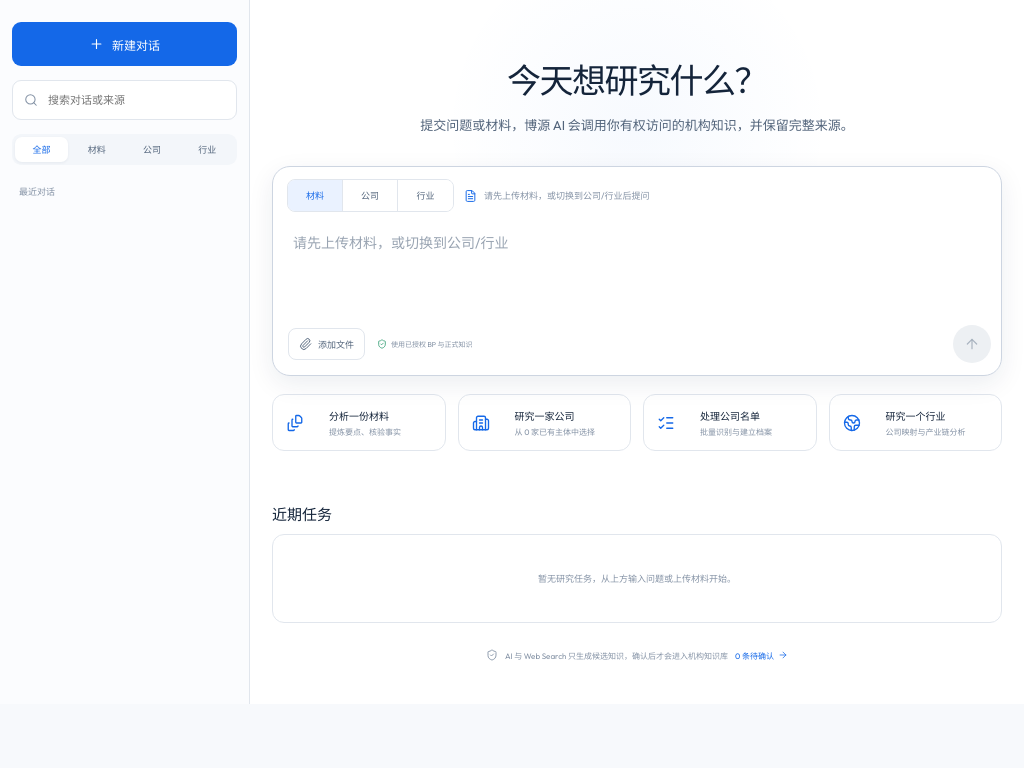
it: 工作台研究平台接缝 › 会话栏按标题、来源和类型筛选持久对话
Step 1. Type "飞书" into the field labelled "搜索对话或来源" → point(136, 100), box left=46, top=92, right=225, bottom=108
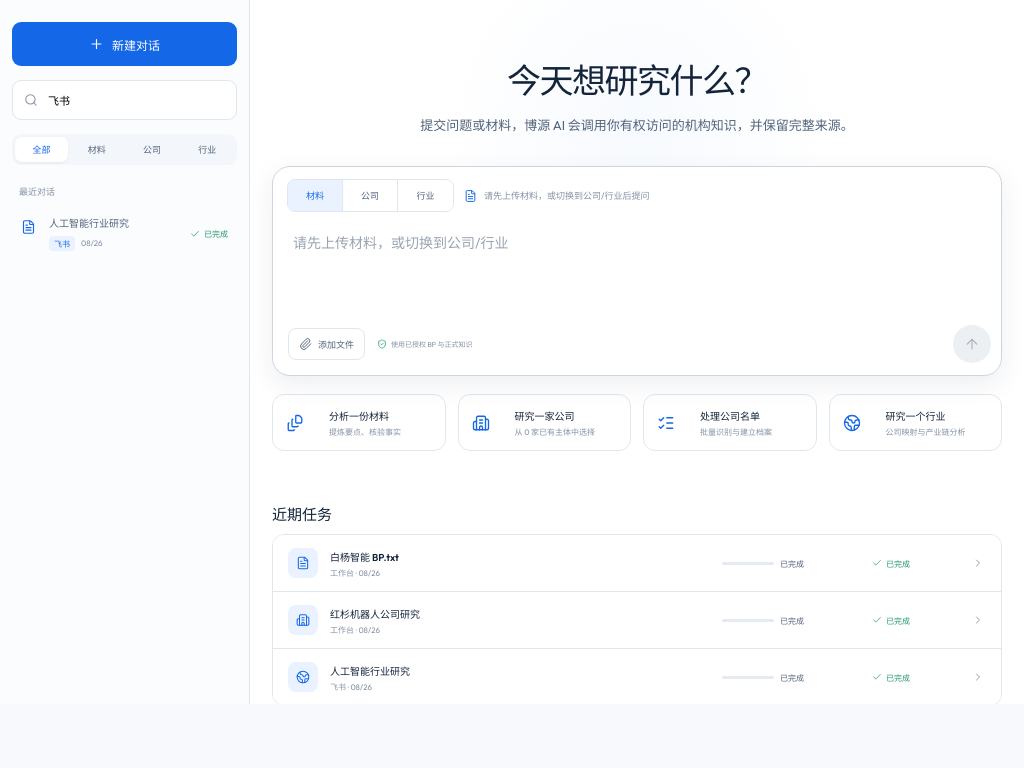
Check: the text "人工智能行业研究" below "最近对话" is shown, box left=49, top=217, right=129, bottom=230
Step 2. Replace the text in the field named "搜索对话或来源" with "公司" → point(136, 100), box left=46, top=92, right=225, bottom=108
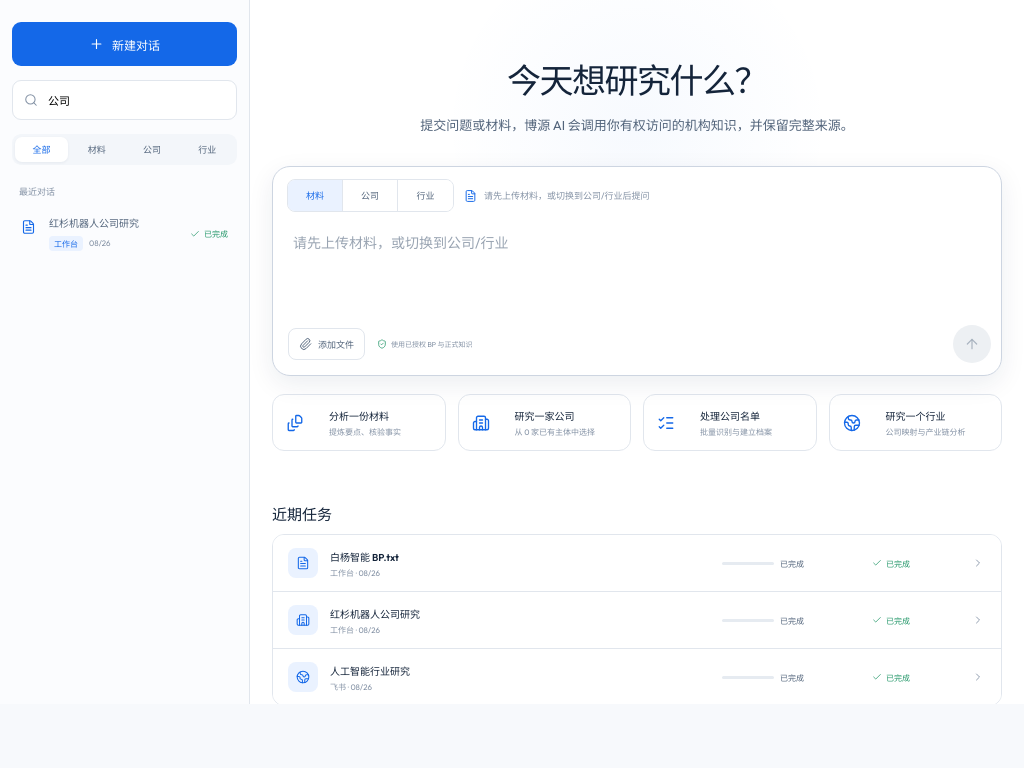
Check: the text "红杉机器人公司研究" below "最近对话" is shown, box left=49, top=217, right=139, bottom=230
Step 3. Replace the text in the field named "搜索对话或来源" with "白杨智能" → point(136, 100), box left=46, top=92, right=225, bottom=108
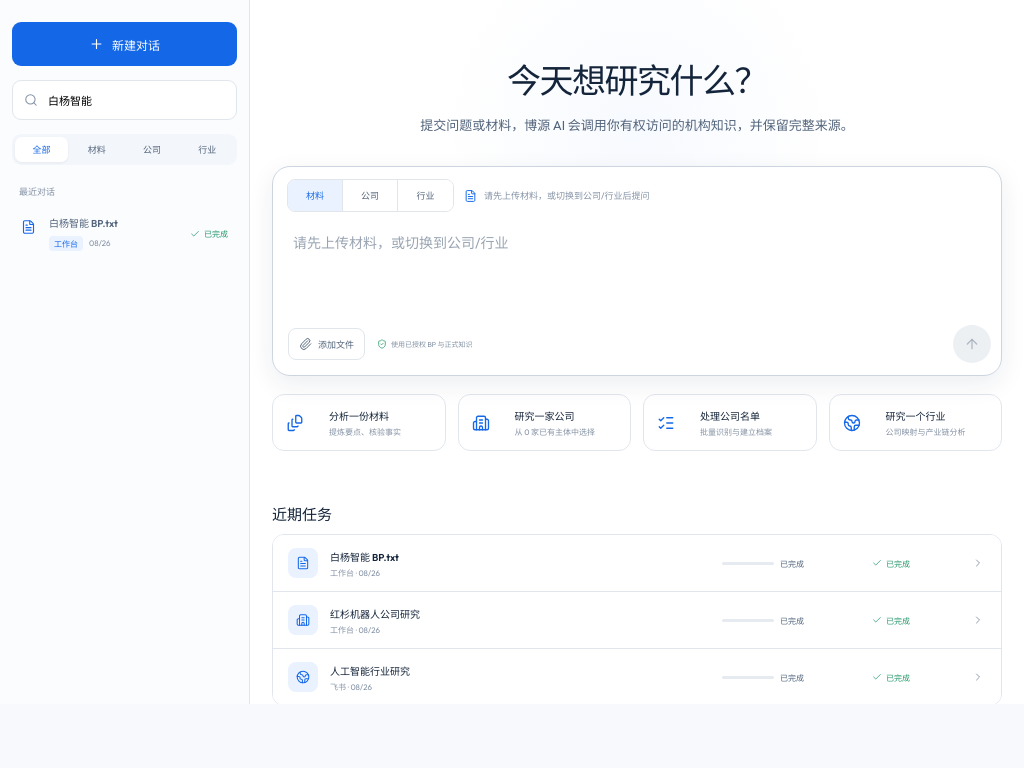
Check: the text "白杨智能 BP.txt" below "最近对话" is shown, box left=49, top=217, right=118, bottom=230
